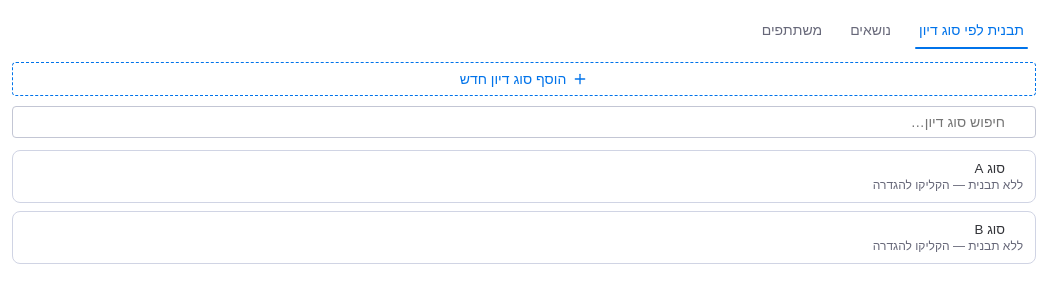
it: creating a type opens its template editor (round304 §1) › the inline "create from search" row opens the editor too
The image size is (1048, 292).
In the field named "חיפוש או הוספת סוג דיון": (524, 122) [12,106,1036,138], type "סוג נדיר"
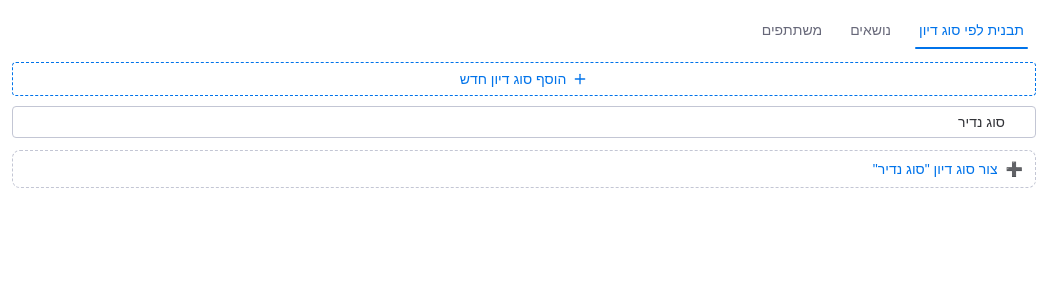
Click the button "➕ צור סוג דיון \"סוג נדיר\"": (961, 169) [12,150,1036,188]
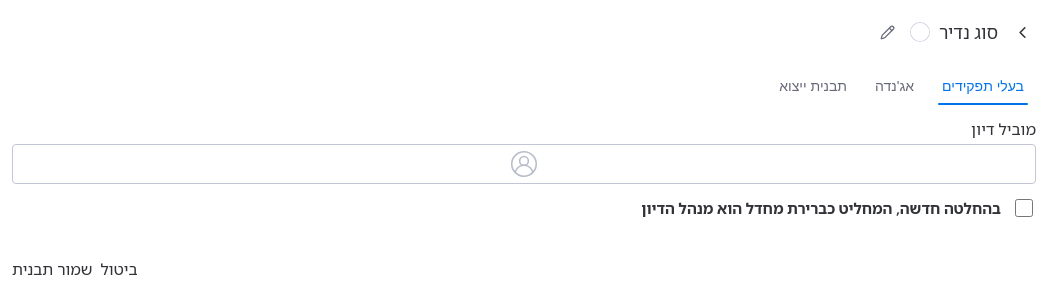
Expected: the heading "סוג נדיר" is shown, [939,20,998,44]
Expected: the tab "בעלי תפקידים" is shown, [930,68,1036,104]
